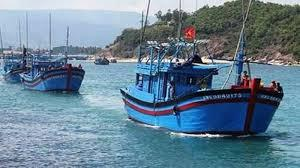Ship: (122, 37, 285, 135), (22, 61, 86, 92), (5, 62, 31, 83)
